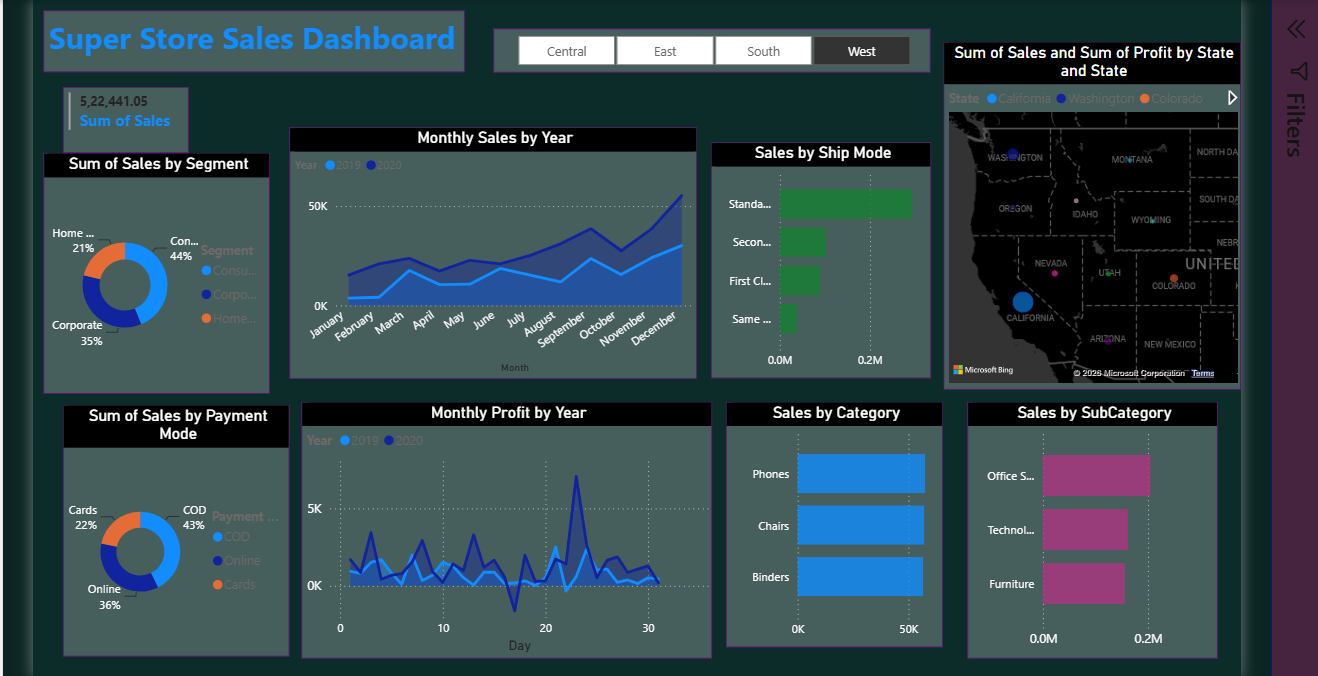

The dashboard page shown, as its layout file describes it:
{"tool":"powerbi","page":{"name":"Page 1","canvas":[1280,720],"ordinal":0},"visuals":[{"type":"clusteredBarChart","title":" Sales by Category","fields":{"Category":["SuperStore_Sales_Dataset.Sub-Category"],"Y":["Sum(SuperStore_Sales_Dataset.Sales)"]},"box":[735,426.7,230,260],"z":0},{"type":"clusteredBarChart","title":" Sales by SubCategory","fields":{"Category":["SuperStore_Sales_Dataset.Category"],"Y":["Sum(SuperStore_Sales_Dataset.Sales)"]},"box":[991.7,426.7,265,271.7],"z":1000},{"type":"areaChart","title":"Monthly Sales by Year ","fields":{"Category":["SuperStore_Sales_Dataset.Order Date.Variation.Date Hierarchy.Month"],"Series":["SuperStore_Sales_Dataset.Order Date.Variation.Date Hierarchy.Year"],"Y":["Sum(SuperStore_Sales_Dataset.Sales)"]},"box":[271.7,135,431.7,266.7],"z":2000},{"type":"clusteredBarChart","title":" Sales by Ship Mode","fields":{"Category":["SuperStore_Sales_Dataset.Ship Mode"],"Y":["Sum(SuperStore_Sales_Dataset.Sales)"]},"box":[718.3,151.7,233.3,250],"z":3000},{"type":"areaChart","title":"Monthly Profit by Year ","fields":{"Category":["SuperStore_Sales_Dataset.Order Date.Variation.Date Hierarchy.Month","SuperStore_Sales_Dataset.Order Date.Variation.Date Hierarchy.Day"],"Series":["SuperStore_Sales_Dataset.Order Date.Variation.Date Hierarchy.Year"],"Y":["Sum(SuperStore_Sales_Dataset.Profit)"]},"box":[285,426.7,435,271.7],"z":4000},{"type":"map","fields":{"Category":["SuperStore_Sales_Dataset.State"],"Series":["SuperStore_Sales_Dataset.State"],"Size":["Sum(SuperStore_Sales_Dataset.Sales)"]},"box":[965,45,315,368.3],"z":5000},{"type":"donutChart","fields":{"Category":["SuperStore_Sales_Dataset.Segment"],"Y":["Sum(SuperStore_Sales_Dataset.Sales)"]},"box":[11.7,161.7,240,255],"z":6000},{"type":"donutChart","fields":{"Category":["SuperStore_Sales_Dataset.Payment Mode"],"Y":["Sum(SuperStore_Sales_Dataset.Sales)"]},"box":[31.7,430,240,266.7],"z":7000},{"type":"slicer","fields":{"Values":["SuperStore_Sales_Dataset.Region"]},"box":[488.3,30,463.3,46.7],"z":8000},{"type":"textbox","box":[11.7,11.7,446.7,65],"z":9000},{"type":"multiRowCard","fields":{"Values":["Sum(SuperStore_Sales_Dataset.Sales)"]},"box":[31.7,91.7,133.3,70],"z":10000}]}

Visuals, with their boxes on the page's 1280x720 design canvas (x1, y1, x2, y2). These are canvas units, not pixel positions in the 1318x676 screenshot, which may show the page scaled, cropped or inside an application window:
" Sales by Category" clusteredBarChart: 735, 427, 965, 687
" Sales by SubCategory" clusteredBarChart: 992, 427, 1257, 698
"Monthly Sales by Year " areaChart: 272, 135, 703, 402
" Sales by Ship Mode" clusteredBarChart: 718, 152, 952, 402
"Monthly Profit by Year " areaChart: 285, 427, 720, 698
map - SuperStore_Sales_Dataset.State x SuperStore_Sales_Dataset.State: 965, 45, 1280, 413
donutChart - SuperStore_Sales_Dataset.Segment x Sum(SuperStore_Sales_Dataset.Sales): 12, 162, 252, 417
donutChart - SuperStore_Sales_Dataset.Payment Mode x Sum(SuperStore_Sales_Dataset.Sales): 32, 430, 272, 697
slicer - SuperStore_Sales_Dataset.Region: 488, 30, 952, 77
textbox: 12, 12, 458, 77
multiRowCard - Sum(SuperStore_Sales_Dataset.Sales): 32, 92, 165, 162
